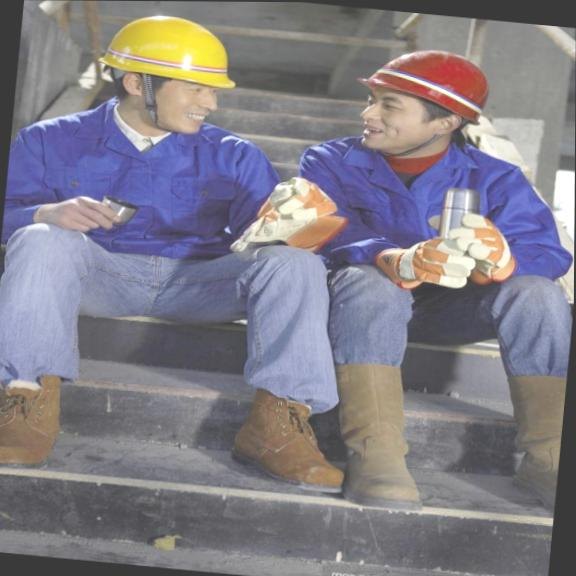no_safety_vest: (1, 102, 294, 270), (283, 129, 575, 291)
